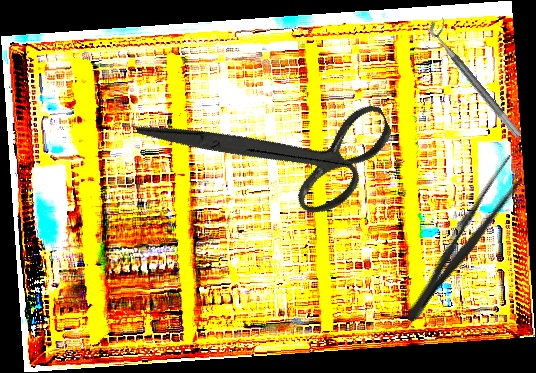Dressing Forceps: (396, 151, 531, 330)
Fixation Ring: (424, 14, 532, 140)
Iris Scissors: (134, 25, 411, 271)
